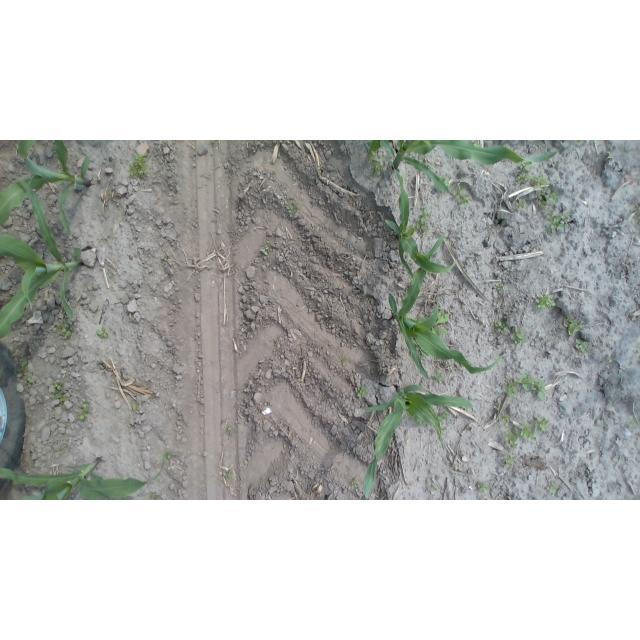Maize: (388, 230, 508, 382), (1, 175, 84, 340), (359, 381, 473, 500), (367, 141, 566, 195), (381, 159, 459, 278), (0, 141, 92, 240), (0, 454, 166, 499)
Weeds: (511, 373, 547, 400), (545, 210, 571, 236), (127, 152, 150, 179), (50, 379, 70, 403), (535, 292, 558, 310), (417, 208, 431, 236), (368, 154, 385, 176), (16, 359, 32, 382), (453, 187, 472, 206), (539, 189, 560, 205), (565, 318, 582, 337), (510, 325, 527, 344), (518, 425, 536, 442), (77, 401, 91, 422), (58, 320, 74, 338), (431, 322, 450, 337), (531, 175, 550, 190), (504, 429, 519, 448), (502, 382, 518, 399), (535, 416, 550, 432), (494, 319, 509, 334), (287, 200, 299, 218), (437, 411, 451, 426), (516, 170, 531, 184), (356, 385, 369, 400), (96, 326, 109, 340), (517, 161, 533, 172), (576, 340, 589, 353), (222, 468, 235, 480), (503, 456, 516, 468), (478, 483, 491, 494), (547, 483, 560, 494), (431, 373, 444, 384), (437, 174, 451, 184), (24, 375, 36, 386), (162, 450, 174, 461), (227, 424, 238, 436), (436, 310, 449, 320), (349, 478, 359, 491), (131, 403, 142, 414), (501, 413, 512, 424), (260, 245, 271, 256), (427, 483, 439, 493), (496, 282, 507, 292), (337, 355, 347, 366), (517, 199, 525, 212), (627, 418, 637, 428), (150, 491, 161, 500), (415, 417, 425, 426), (605, 355, 613, 364), (163, 251, 170, 261), (417, 317, 427, 324), (577, 140, 588, 146), (493, 402, 500, 410), (210, 140, 218, 146)
